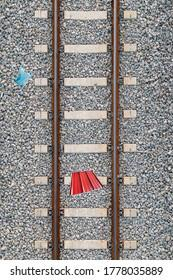Color_steel: (71, 168, 109, 202)
Plastic: (11, 67, 37, 89)
